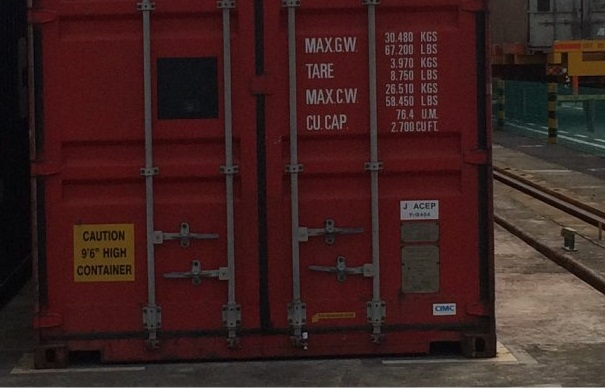container_door: (25, 3, 497, 360)
